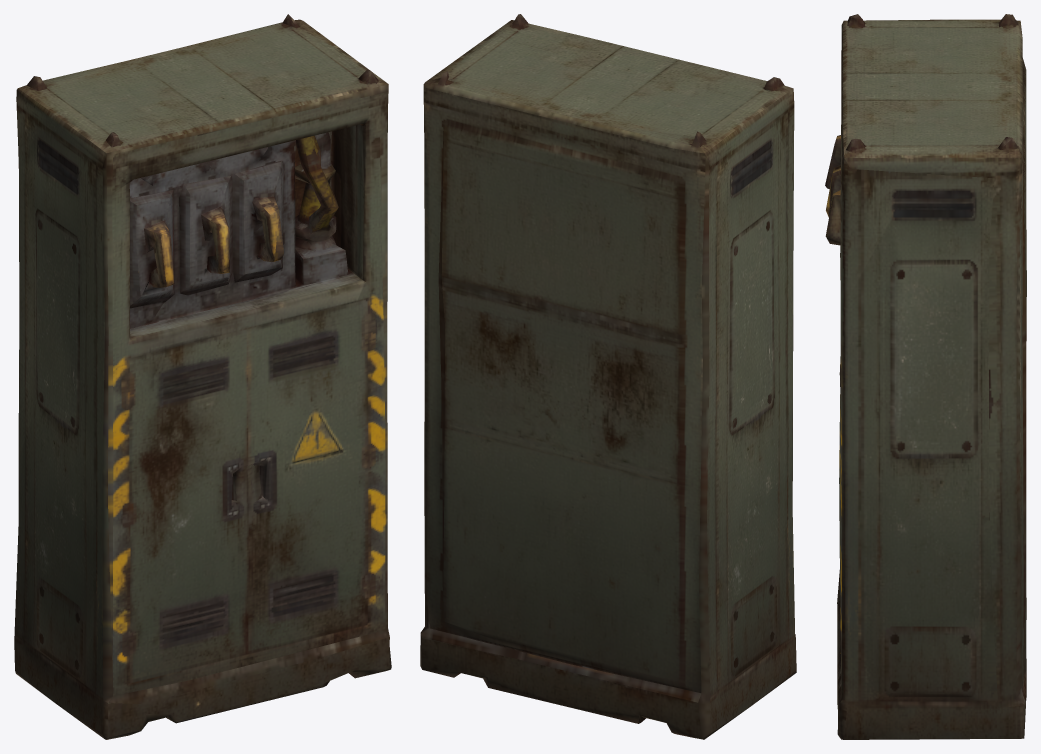
File: bunker_switchgear.glb
3 renders of one model, left to right at view 1: azimuth 30°, elevation 25°; view 2: azimuth 150°, elevation 25°; view 3: azimuth 270°, elevation 25°, orthographic.
Visible parts, largest first — view 1: BunkerSwitchgear; view 2: BunkerSwitchgear; view 3: BunkerSwitchgear.
Boxes of the visible parts, x1,y1,x2,y2 form: BunkerSwitchgear: (14,14,391,739); BunkerSwitchgear: (420,14,796,739); BunkerSwitchgear: (825,14,1026,739).
Bounding box in the file's own units: 1.2 × 2.35 × 0.72.
1 material, 1 textured.
